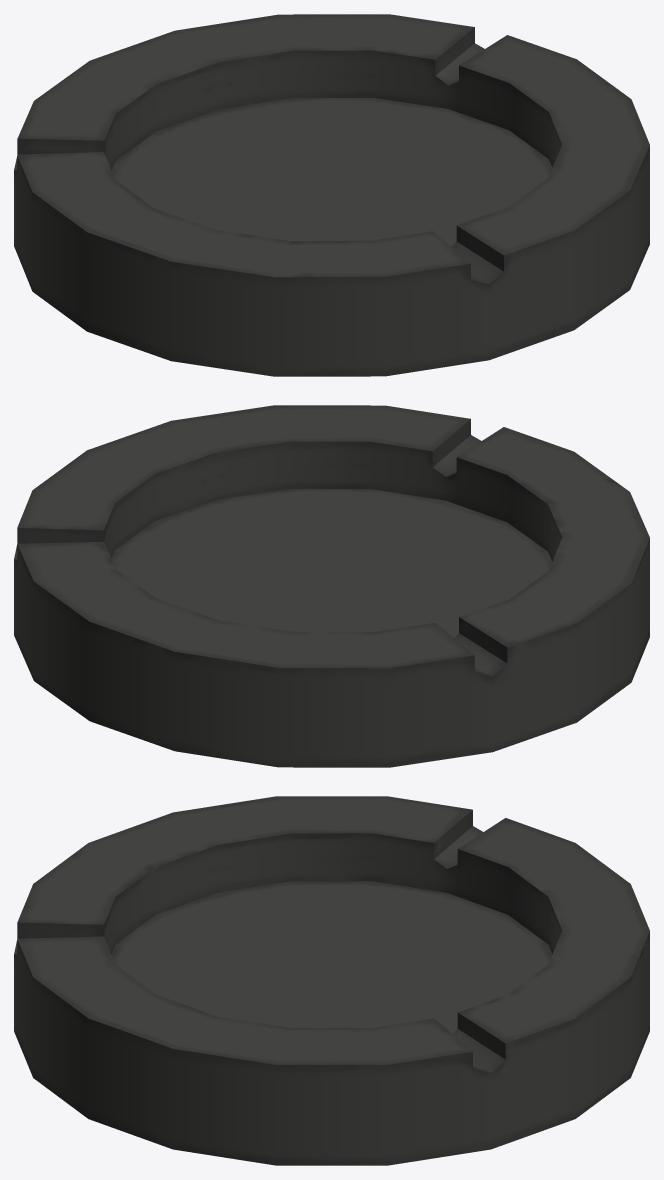
Rendered from Ashtray_1.fbx.
3 renders of one model, top to bottom at view 1: azimuth 30°, elevation 25°; view 2: azimuth 150°, elevation 25°; view 3: azimuth 270°, elevation 25°, orthographic.
Visible parts, largest first — view 1: Ashtray_1; view 2: Ashtray_1; view 3: Ashtray_1.
Part boxes in pixels (box(x1,y1,x2,y2)): Ashtray_1: box(14, 14, 649, 376); Ashtray_1: box(14, 405, 649, 767); Ashtray_1: box(14, 796, 649, 1165).
Bounding box in the file's own units: 0.1143 × 0.02 × 0.1143.
